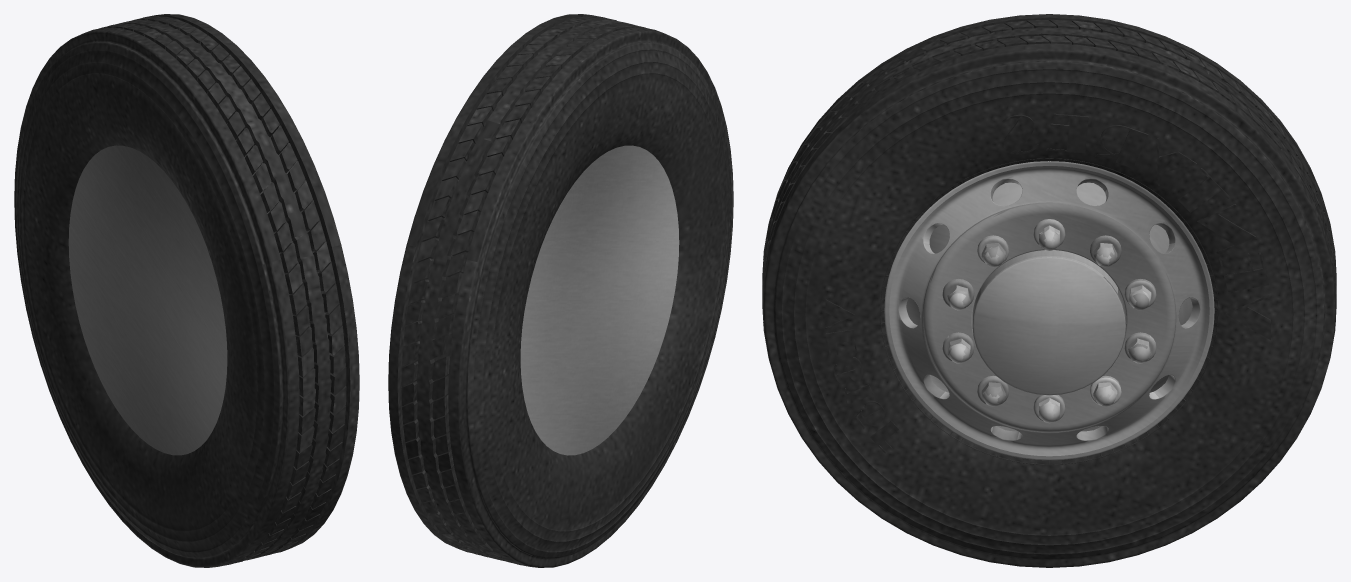
Rendered from llanta_del_izq.obj.
The picture shows the model from 3 angles, left to right: view 1: azimuth 30°, elevation 25°; view 2: azimuth 150°, elevation 25°; view 3: azimuth 270°, elevation 25°; orthographic projection. The views are drawn at different scales.
Visible parts, largest first — view 1: Llanta_del_izq, rin; view 2: Llanta_del_izq, rin; view 3: Llanta_del_izq, rin.
Boxes of the visible parts, x1=… form: Llanta_del_izq: x1=14, y1=14, x2=359, y2=567; rin: x1=68, y1=145, x2=227, y2=455; Llanta_del_izq: x1=388, y1=14, x2=733, y2=567; rin: x1=520, y1=145, x2=679, y2=455; Llanta_del_izq: x1=762, y1=14, x2=1336, y2=567; rin: x1=884, y1=161, x2=1214, y2=460.
Size of the model in its own units: 0.1771 by 0.6526 by 0.6526.
